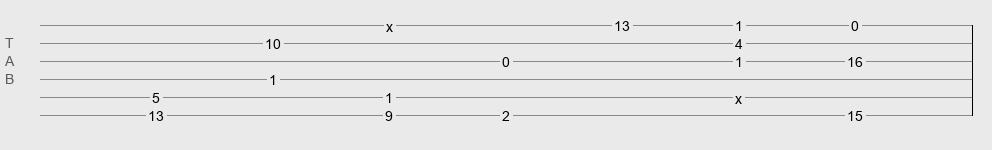0: (502, 54, 510, 64), (851, 18, 859, 28)
1: (269, 72, 277, 82), (385, 90, 393, 100), (735, 54, 743, 64), (735, 18, 743, 28)
10: (265, 36, 281, 46)
13: (148, 108, 164, 118), (614, 18, 630, 28)
15: (847, 108, 863, 118)
16: (847, 54, 863, 64)
2: (502, 108, 510, 118)
4: (735, 36, 743, 46)
5: (152, 90, 160, 100)
9: (385, 108, 393, 118)
x: (386, 19, 393, 27), (735, 91, 742, 99)
